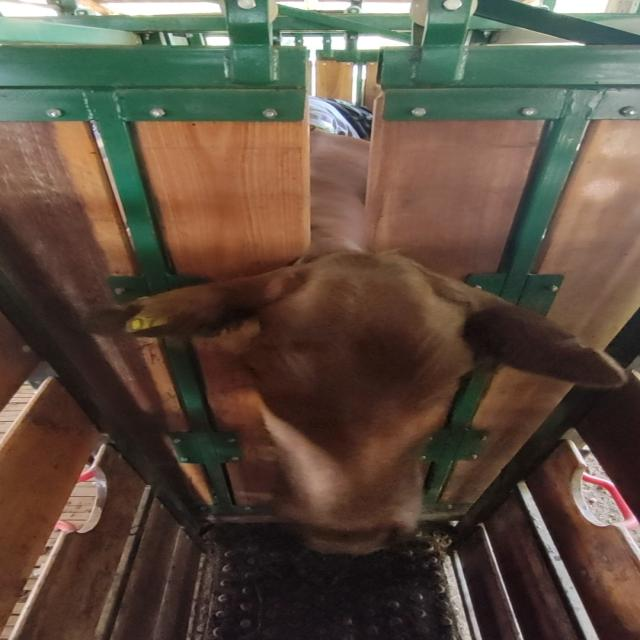cowFace: (246, 251, 474, 556)
